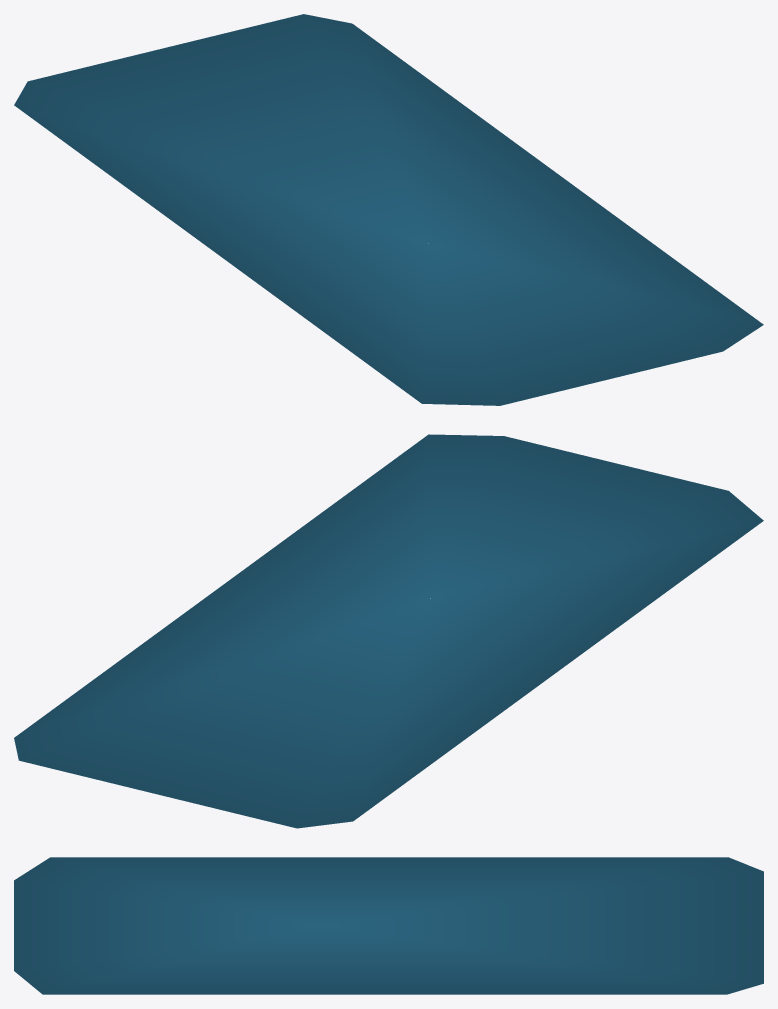
Rendered from IrisEffectGeo_0.glb.
The picture shows the model from 3 angles, top to bottom: view 1: azimuth 30°, elevation 25°; view 2: azimuth 150°, elevation 25°; view 3: azimuth 270°, elevation 25°; orthographic projection. The views are drawn at different scales.
Parts seen in each view (by area): view 1: IrisEffectGeo; view 2: IrisEffectGeo; view 3: IrisEffectGeo.
Part boxes in pixels (box(x1,y1,x2,y2)): IrisEffectGeo: box(14, 14, 763, 405); IrisEffectGeo: box(14, 434, 763, 828); IrisEffectGeo: box(14, 857, 763, 994).
Size of the model in its own units: 10.47 by 0 by 24.21.
